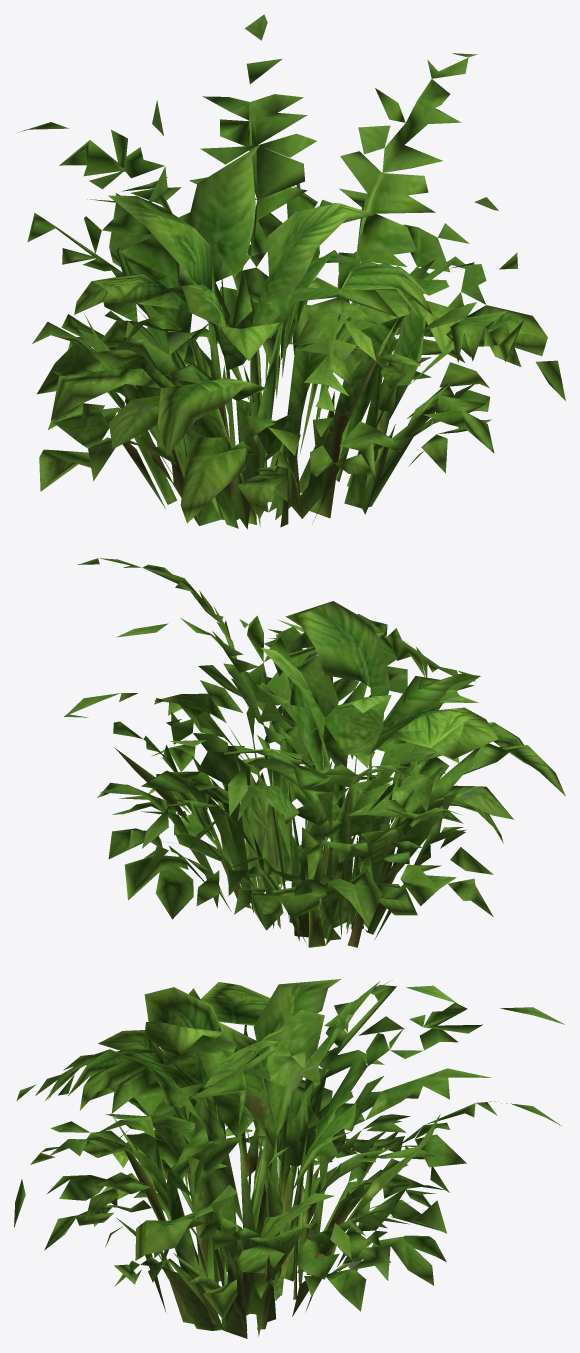
Rendered from bush_fern.glb.
3 renders of one model, top to bottom at view 1: azimuth 30°, elevation 25°; view 2: azimuth 150°, elevation 25°; view 3: azimuth 270°, elevation 25°, orthographic. The views are drawn at different scales.
Visible parts, largest first — view 1: plant; view 2: plant; view 3: plant.
Part boxes in pixels (bbox=[...]): plant: bbox=[18, 14, 565, 529]; plant: bbox=[64, 558, 565, 947]; plant: bbox=[14, 979, 564, 1338].
Size of the model in its own units: 1 by 0.6805 by 0.9729.
Materials: 1 (1 with a texture image).
